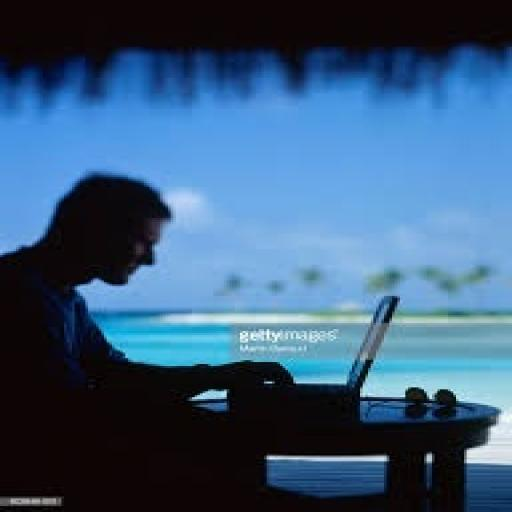using_laptop: (224, 292, 400, 421)
